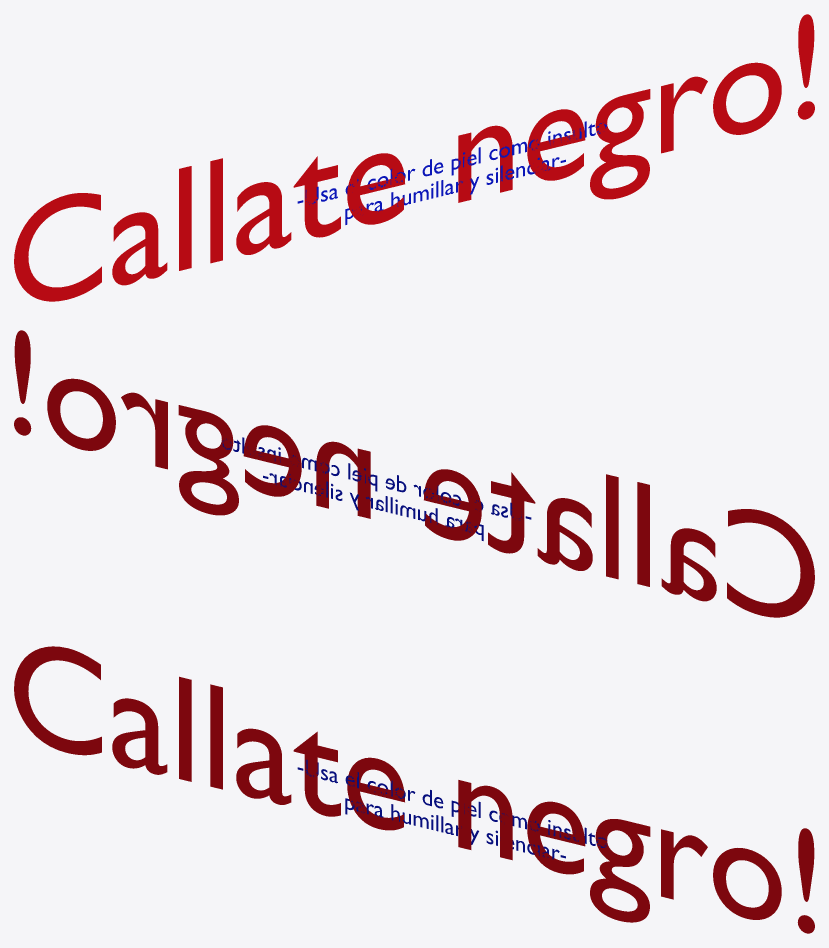
File: palabras3.glb
3 views of the same model, one above another, from view 1: azimuth 30°, elevation 25°; view 2: azimuth 150°, elevation 25°; view 3: azimuth 330°, elevation 25° (orthographic).
Parts seen in each view (by area): view 1: INDIO, INDIO.001; view 2: INDIO, INDIO.001; view 3: INDIO, INDIO.001.
Boxes of the visible parts, left/top/right/bottom form: INDIO: left=14, top=14, right=814, bottom=301; INDIO.001: left=297, top=121, right=606, bottom=224; INDIO: left=14, top=330, right=814, bottom=617; INDIO.001: left=222, top=437, right=531, bottom=540; INDIO: left=14, top=646, right=814, bottom=933; INDIO.001: left=297, top=759, right=606, bottom=859.
Size of the model in its own units: 0.786 by 0.1295 by 3.57e-09.
